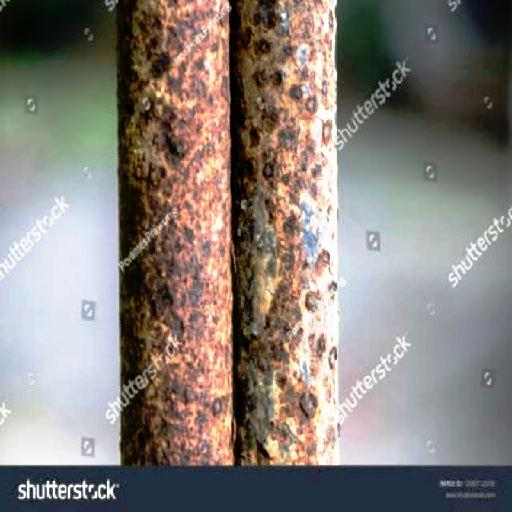corrosion: (120, 0, 240, 467), (232, 0, 343, 467)
